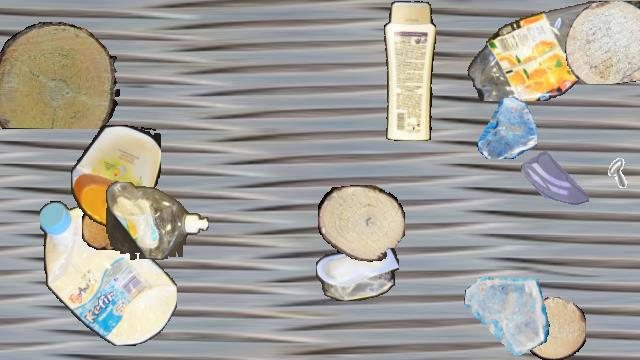glass: (463, 273, 549, 359), (521, 144, 589, 212), (476, 98, 536, 158)
metal: (583, 153, 629, 199)
plastic: (40, 200, 176, 346), (466, 1, 640, 101), (71, 125, 161, 227), (106, 182, 208, 260), (381, 1, 435, 141), (316, 240, 398, 300)
wood: (0, 22, 119, 128), (318, 185, 404, 261), (565, 1, 640, 83), (524, 297, 586, 359), (82, 204, 126, 250)
